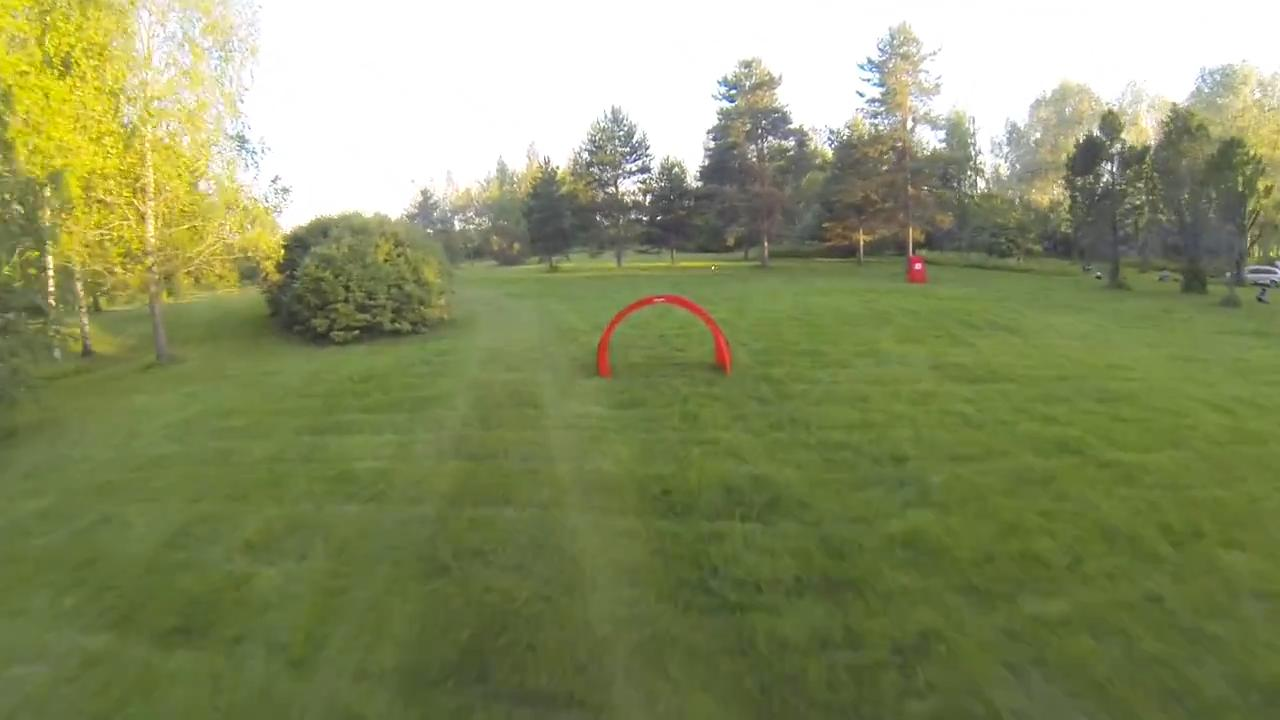gate: (593, 289, 739, 378)
